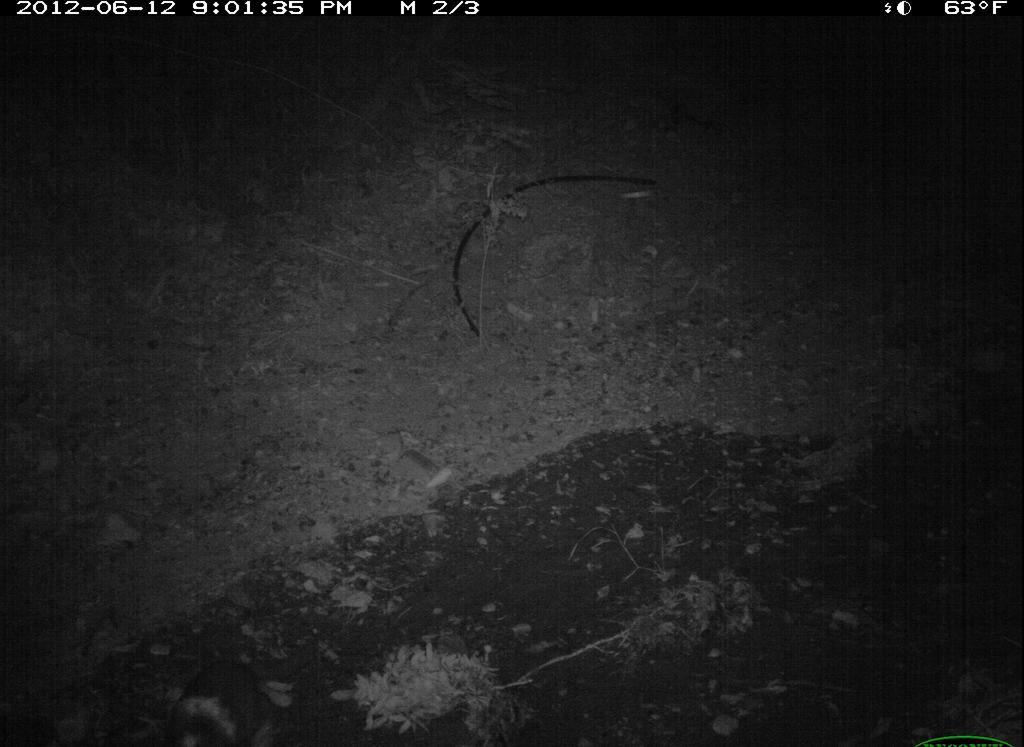cat: (163, 635, 283, 745)
